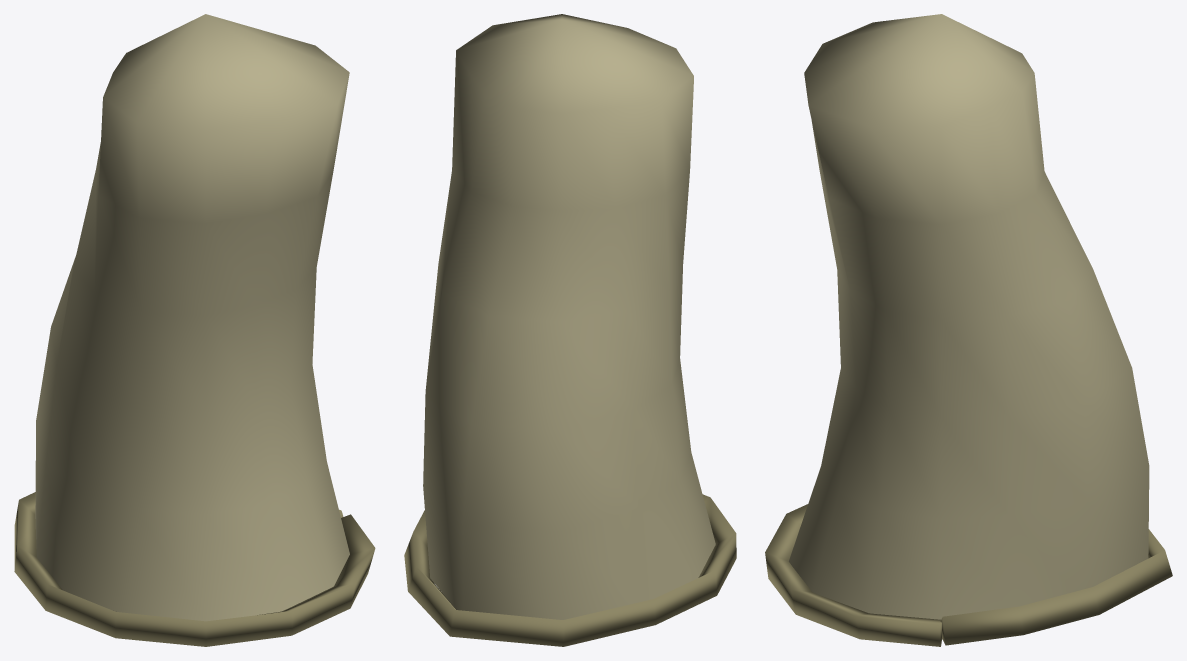
The model's file is tin_armor_boot.L.glb.
The picture shows the model from 3 angles, left to right: view 1: azimuth 30°, elevation 25°; view 2: azimuth 150°, elevation 25°; view 3: azimuth 270°, elevation 25°; orthographic projection. The views are drawn at different scales.
Parts seen in each view (by area): view 1: tin_armor_boot.L; view 2: tin_armor_boot.L; view 3: tin_armor_boot.L.
Boxes of the visible parts, x1,y1,x2,y2 form: tin_armor_boot.L: (14,14,375,646); tin_armor_boot.L: (404,14,736,646); tin_armor_boot.L: (765,14,1172,646).
Size of the model in its own units: 0.1684 by 0.2958 by 0.1934.
